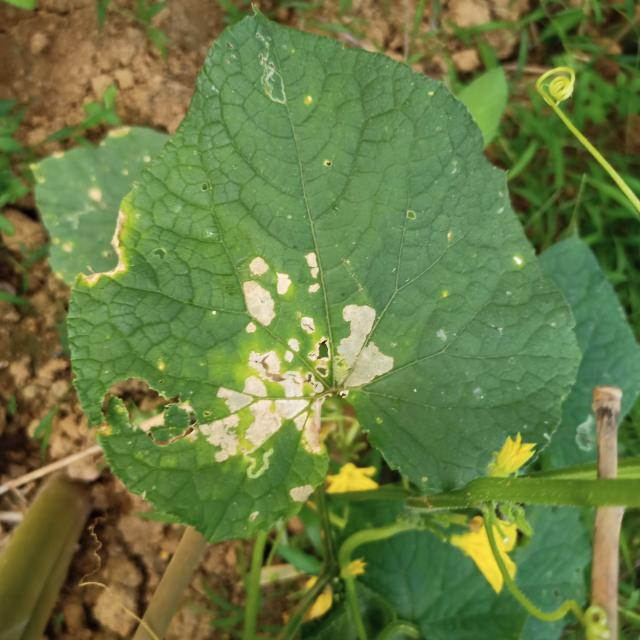disease_cucumber: (196, 245, 401, 463)
